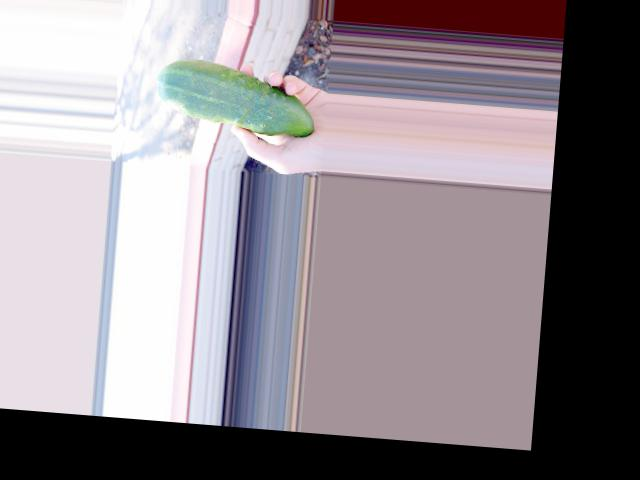cucumber: (154, 55, 318, 138)
